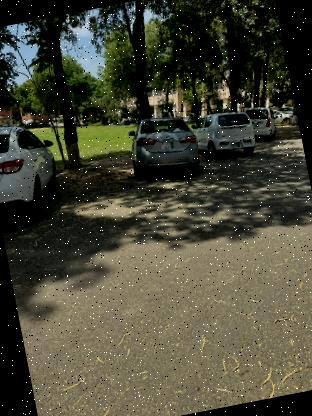car: (0, 108, 65, 219), (122, 108, 206, 184), (184, 103, 262, 168), (240, 100, 280, 145)
